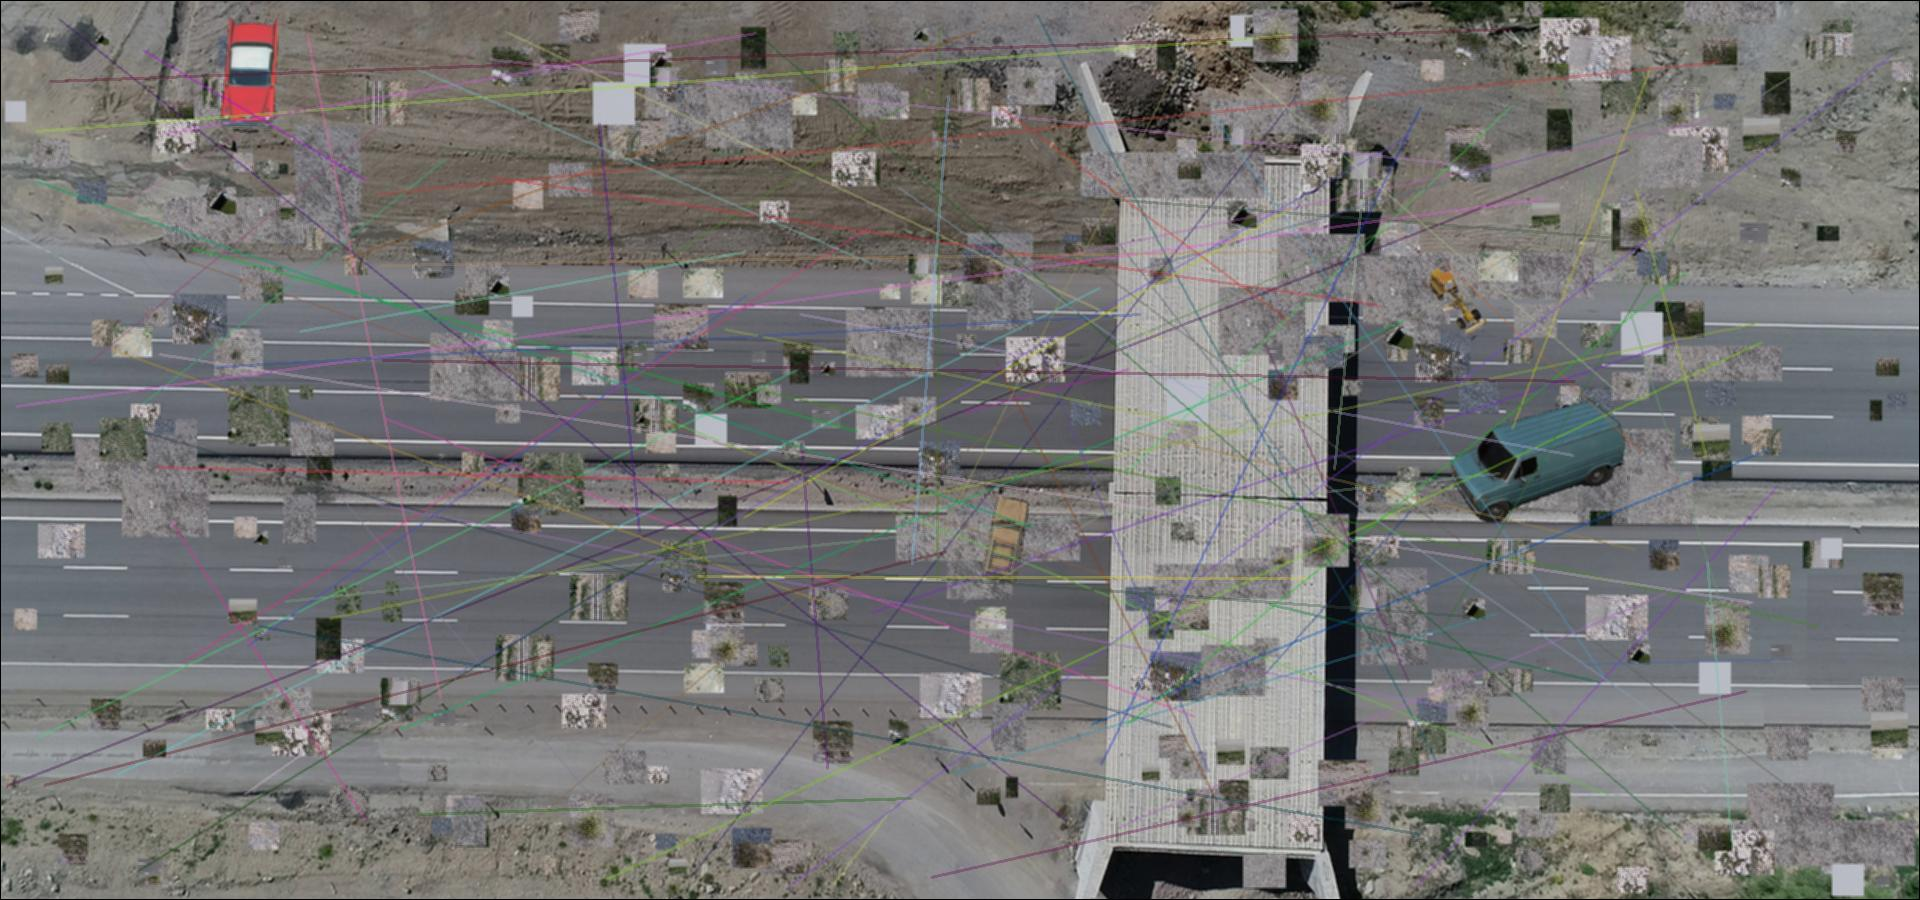arac: (1451, 396, 1626, 523), (219, 16, 278, 133), (1427, 267, 1490, 338), (982, 495, 1029, 587)
